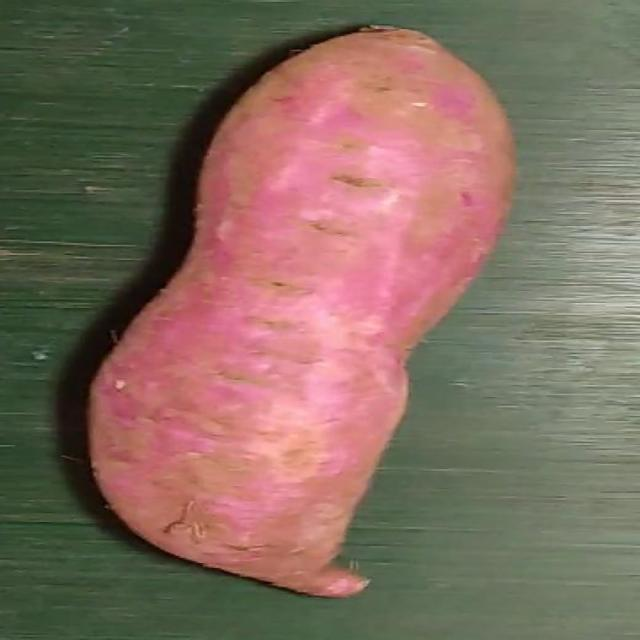Sweet Potato: (81, 24, 518, 601)
